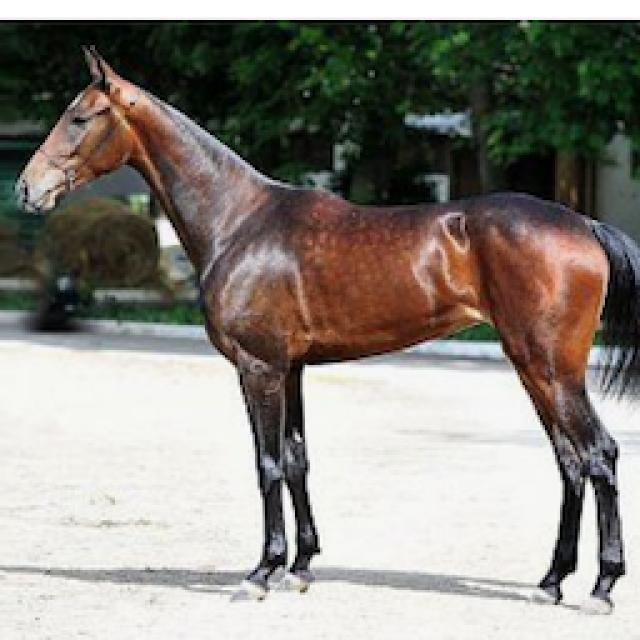Horse: (8, 40, 638, 618)
